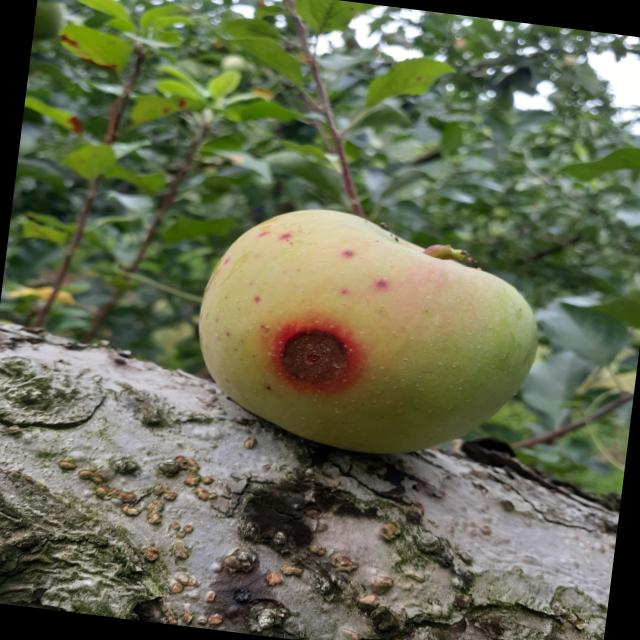rotten: (174, 174, 560, 486)
